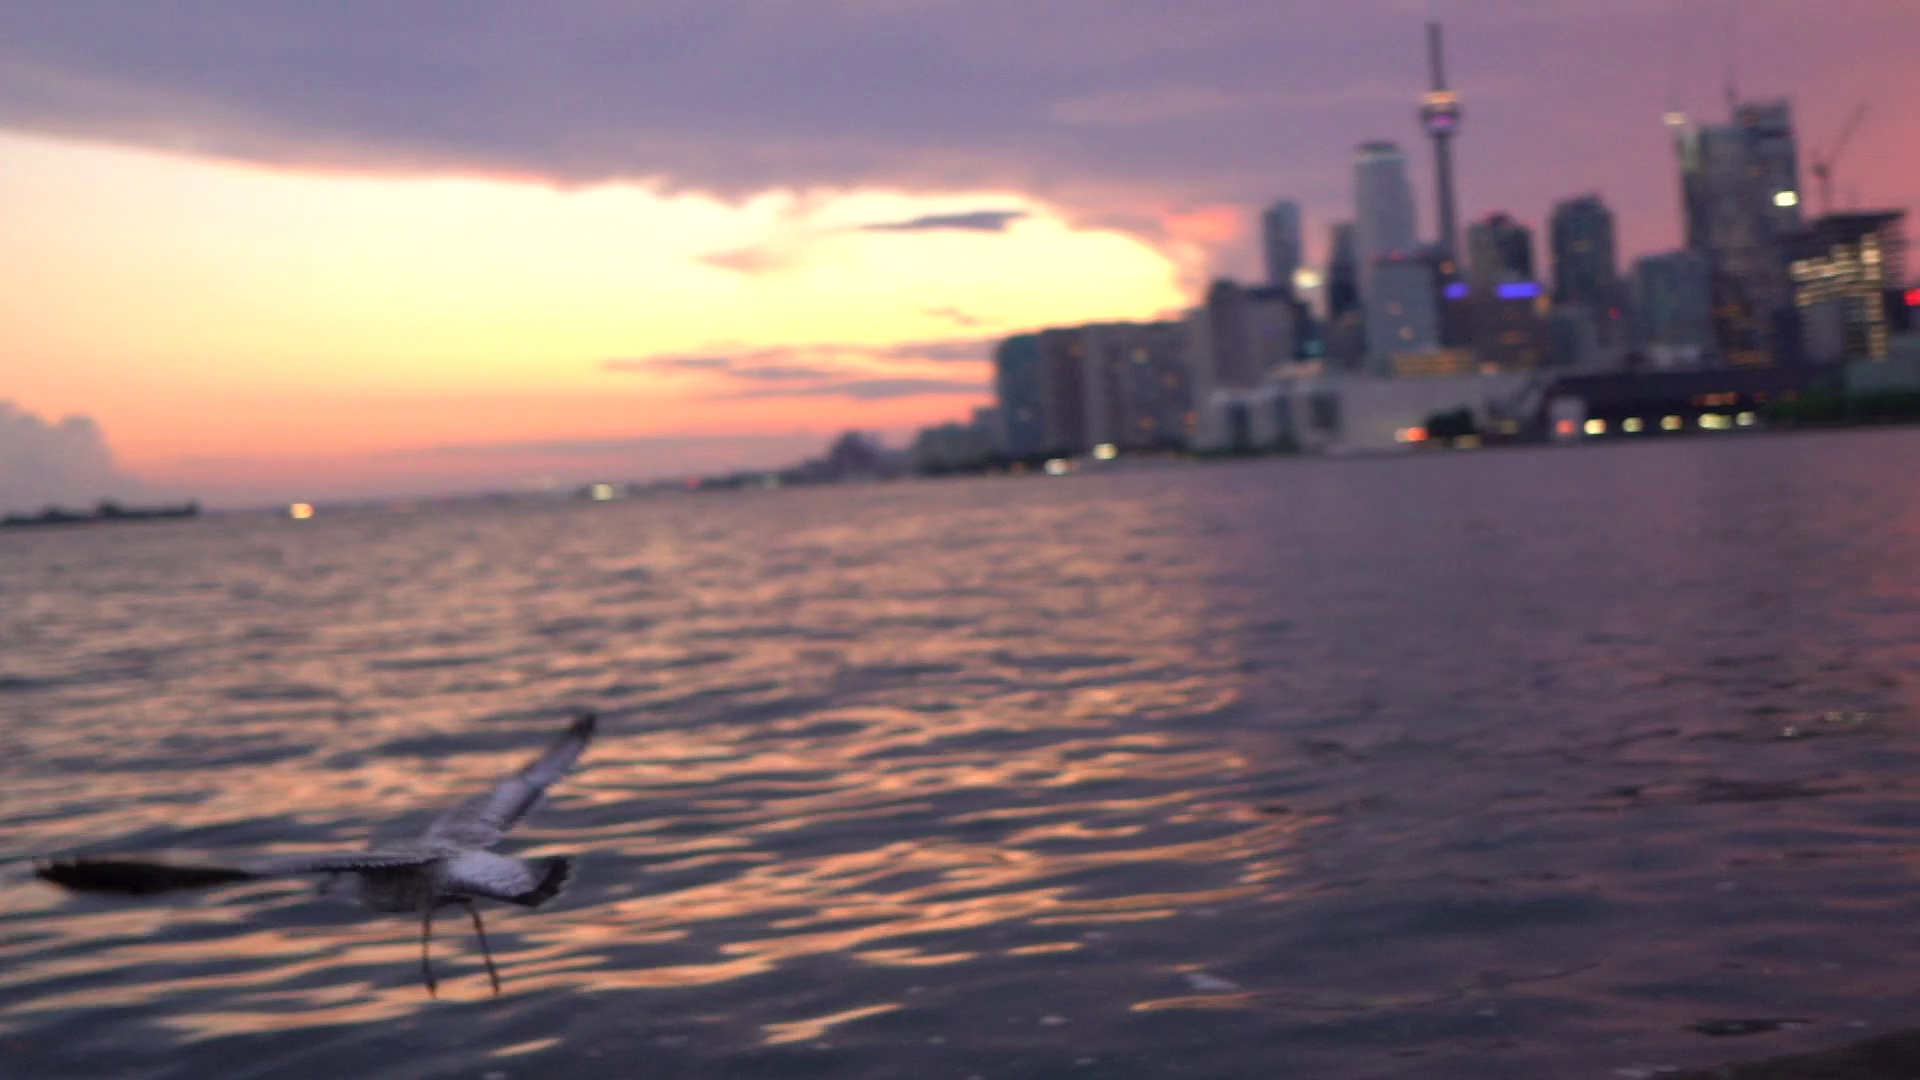bird: (36, 705, 595, 997)
